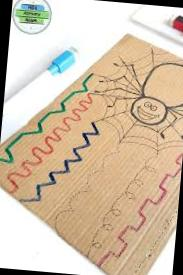Kertas: (0, 35, 183, 275)
